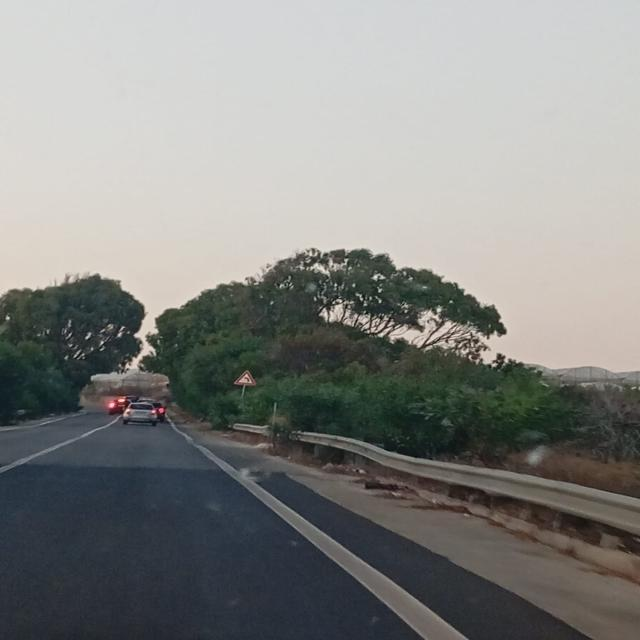warn_left_curve: (234, 369, 258, 386)
